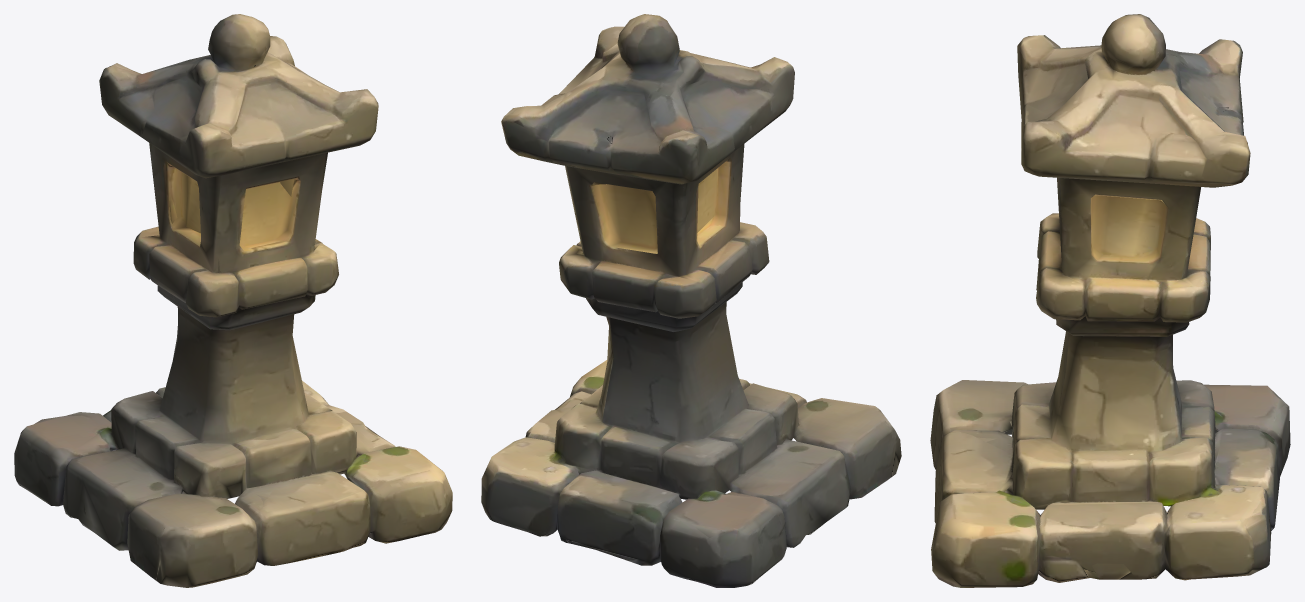
File: lamp-pedestal.glb
The picture shows the model from 3 angles, left to right: view 1: azimuth 30°, elevation 25°; view 2: azimuth 150°, elevation 25°; view 3: azimuth 270°, elevation 25°; orthographic projection. The views are drawn at different scales.
Bounding box in the file's own units: 0.838 × 1.3 × 0.8364.
1 material, 1 textured.
